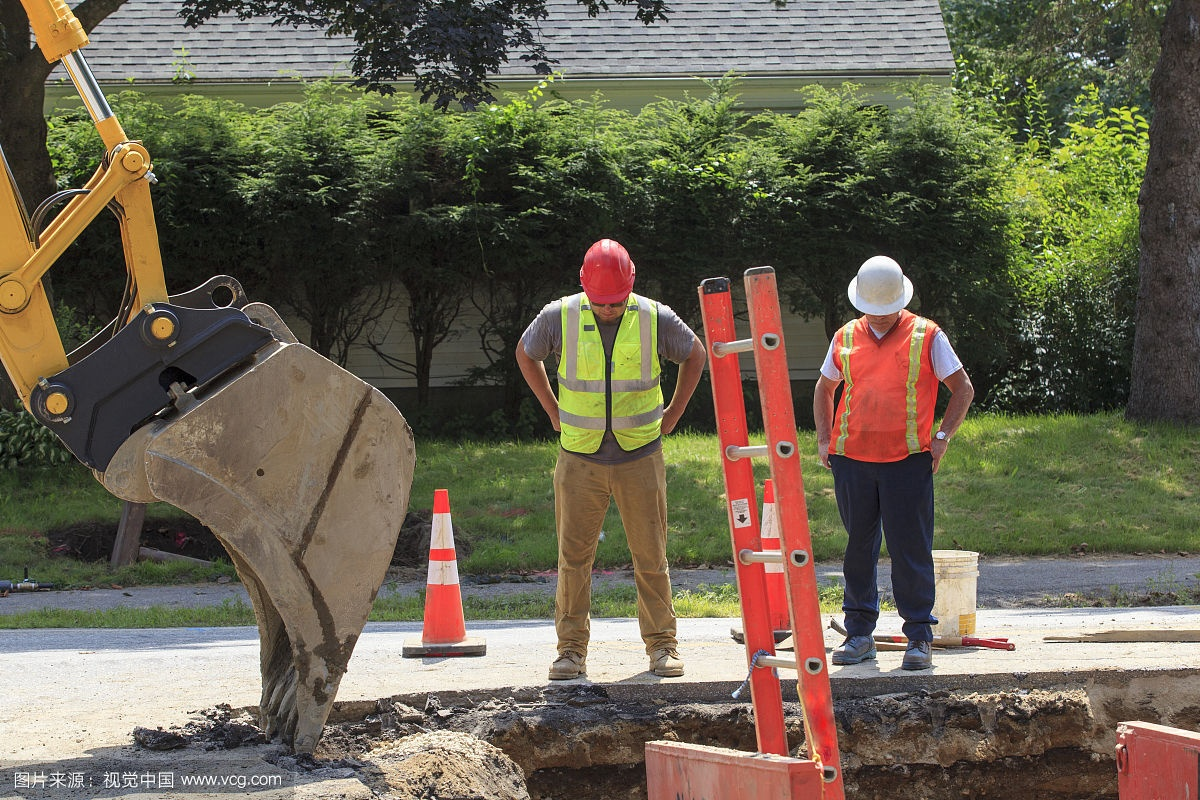red: (574, 233, 638, 320)
white: (841, 246, 915, 333)
